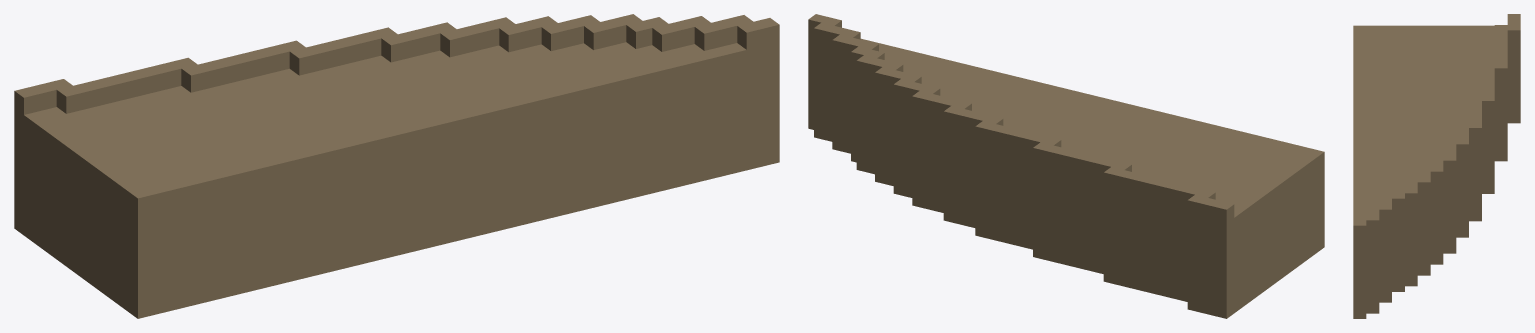
The model's file is CorridorCorner01-1.obj.
The picture shows the model from 3 angles, left to right: view 1: azimuth 30°, elevation 25°; view 2: azimuth 150°, elevation 25°; view 3: azimuth 270°, elevation 25°; orthographic projection. The views are drawn at different scales.
Bounding box in the file's own units: 3.9 × 0.8 × 1.3.
Materials: 1 (1 with a texture image).
